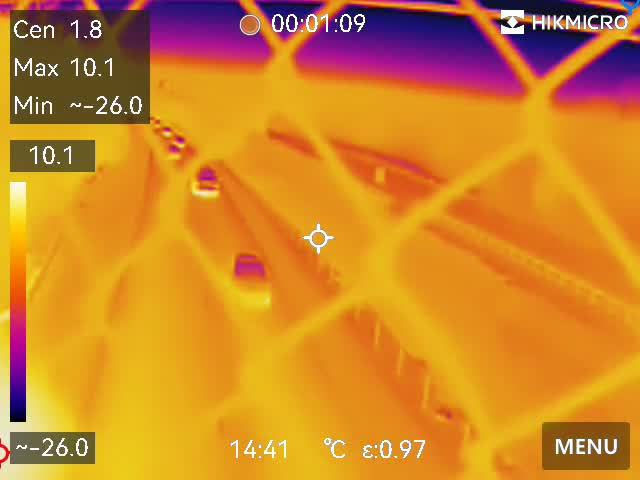vehicle: (231, 253, 278, 310), (191, 162, 225, 200), (164, 141, 183, 160), (158, 125, 174, 140), (174, 135, 186, 147)
